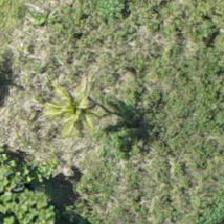coconut_tree: (28, 58, 118, 148)
